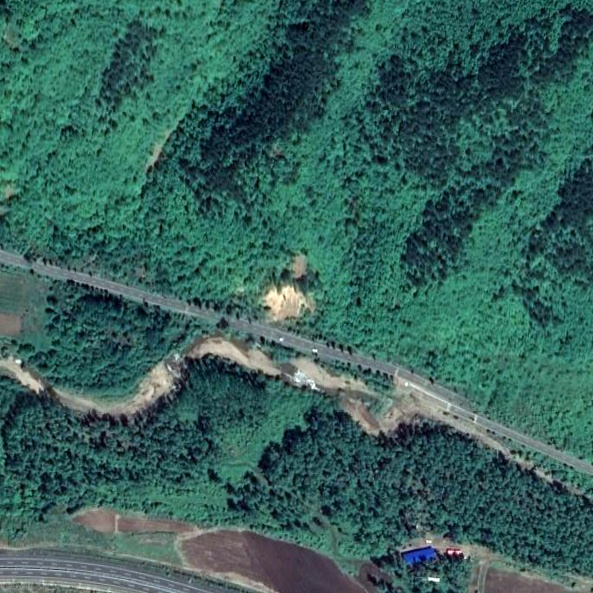slope: (256, 251, 320, 324)
